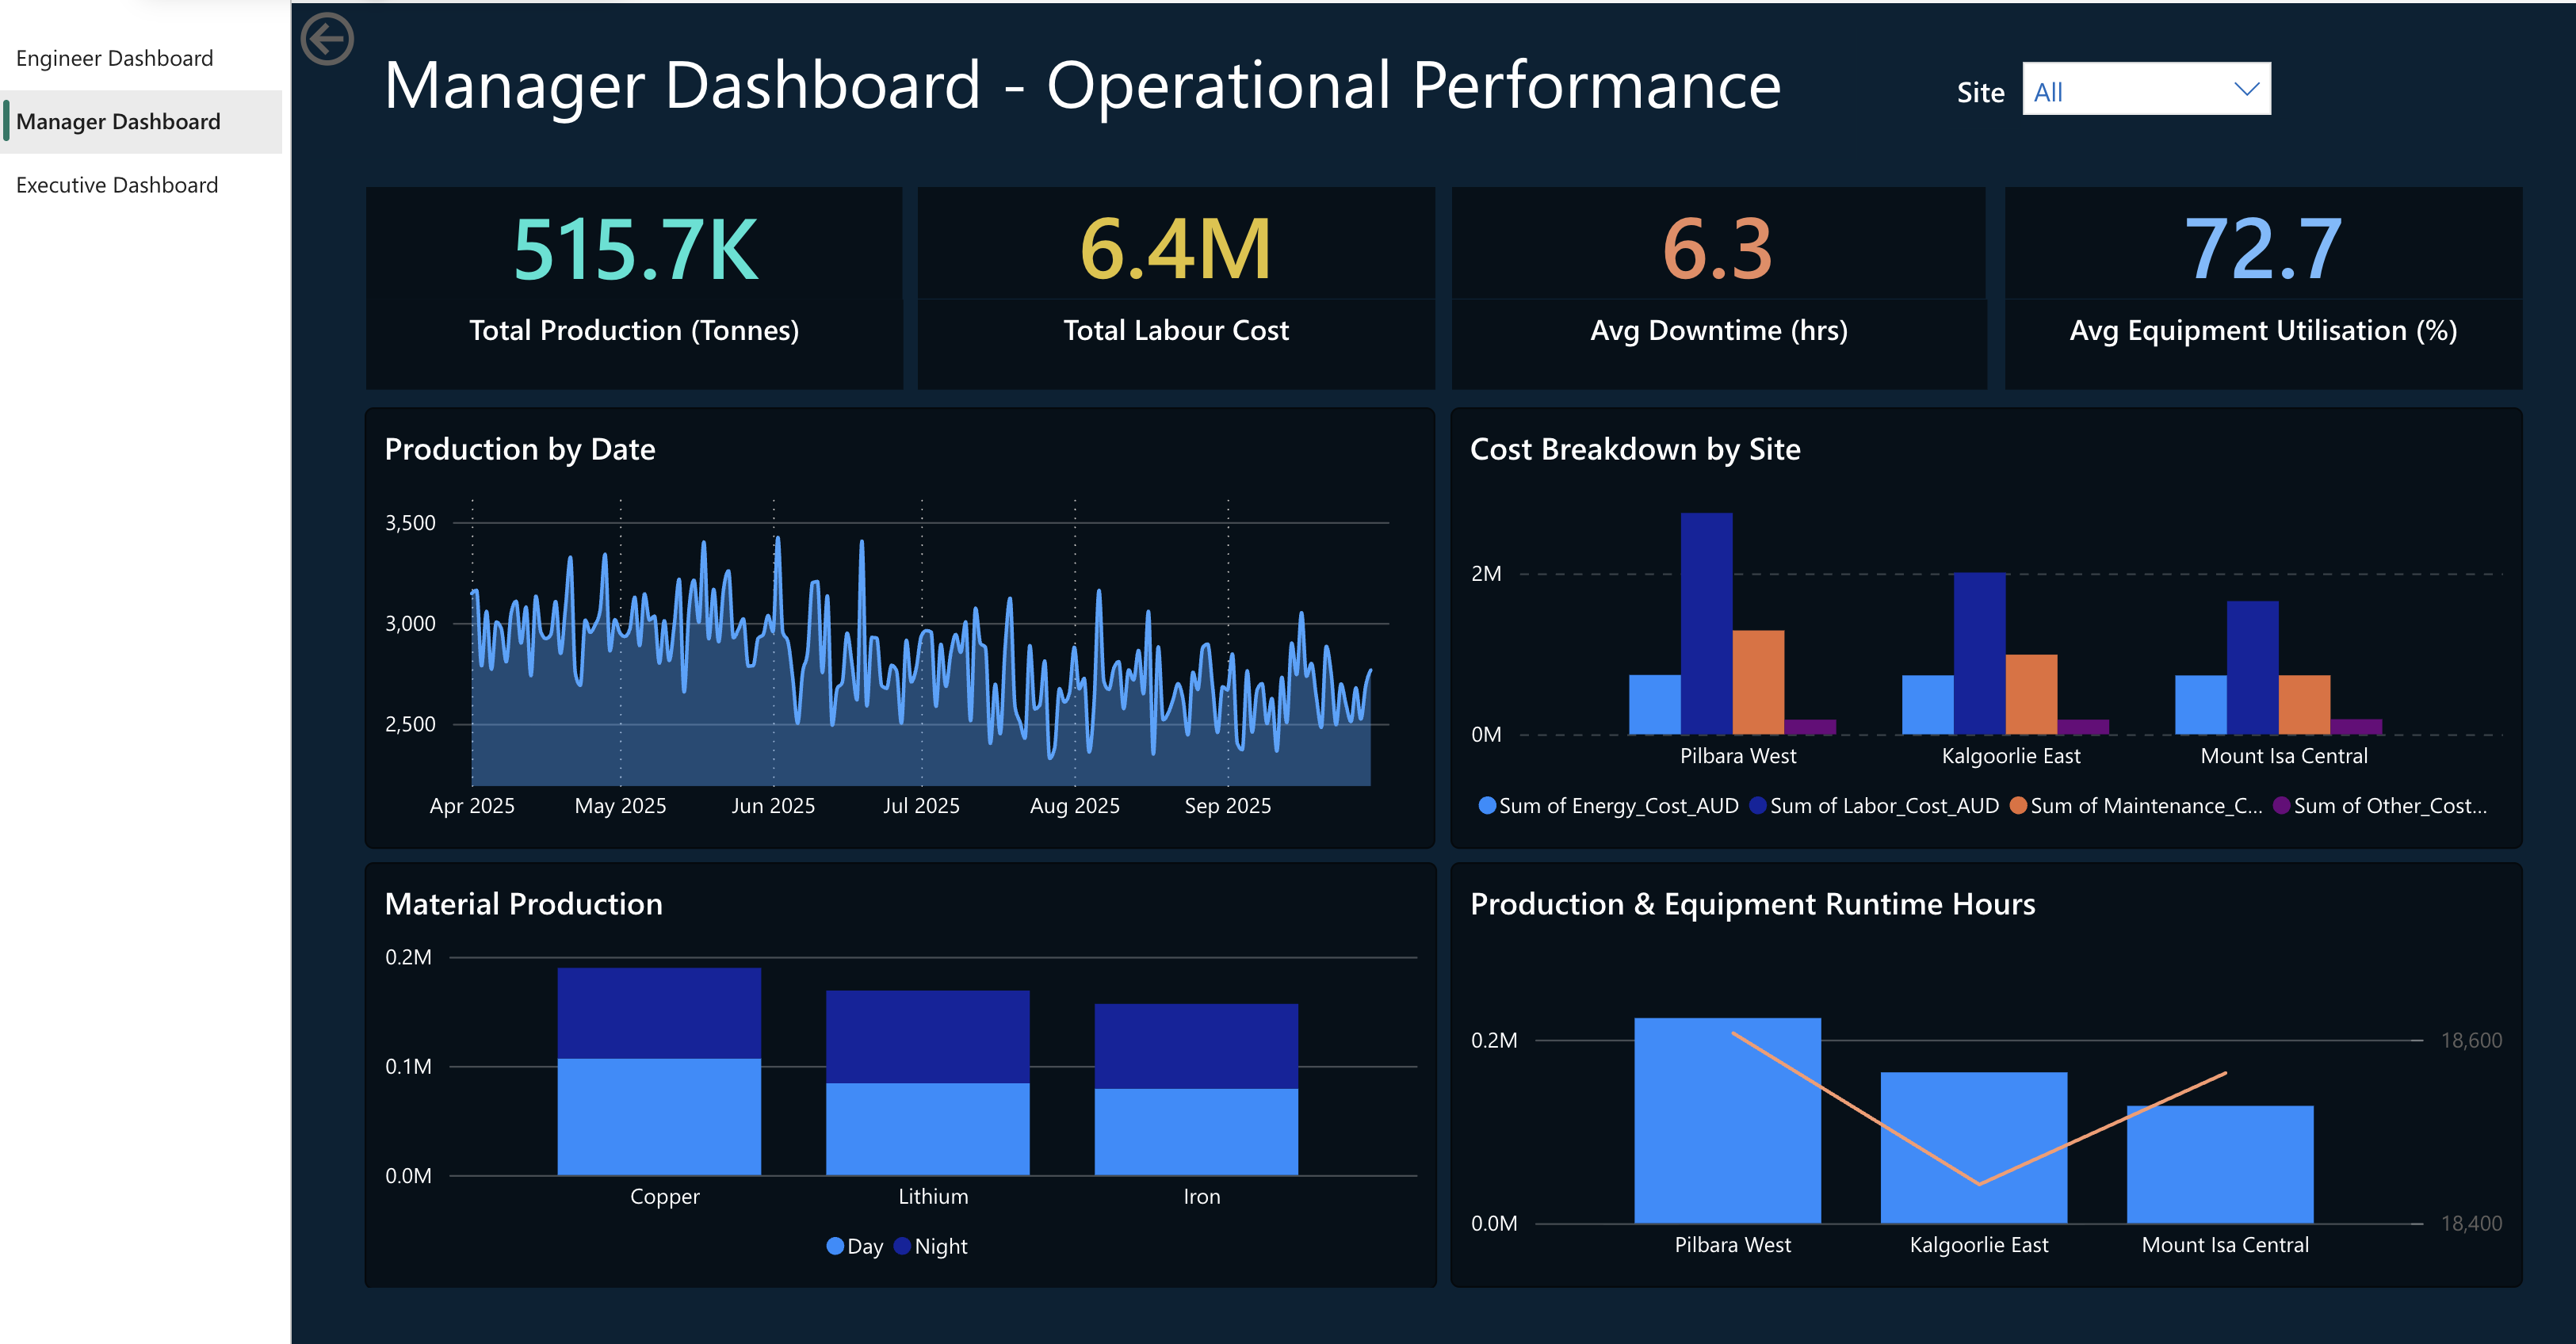

This screenshot's page, from the dashboard's own definition file:
{"tool":"powerbi","page":{"name":"Manager Dashboard","canvas":[1280,720],"ordinal":1},"visuals":[{"type":"textbox","box":[9.9,12.9,866.9,74.5],"z":0},{"type":"slicer","title":"Site","fields":{"Values":["site_info.Site_Name"]},"box":[960.2,22.8,158.9,41.7],"z":1000},{"type":"card","title":"Total Production","fields":{"Values":["Sum(production.Quantity_Tonnes)"]},"box":[41.8,102.8,300.4,63.1],"z":2000},{"type":"card","title":"Runtime Hours","fields":{"Values":["Sum(cost.Labor_Cost_AUD)"]},"box":[350.5,103.3,290,62.6],"z":3000},{"type":"card","title":"Energy Cost","fields":{"Values":["Avg(equipment.Downtime_Hours)"]},"box":[650.4,103.3,298.9,62.6],"z":4000},{"type":"card","title":"Fuel Used","fields":{"Values":["equipment.Utilisation_%"]},"box":[960.2,103.3,290,62.6],"z":5000},{"type":"stackedAreaChart","title":"Production by Date","fields":{"Category":["production.Date"],"Y":["Sum(production.Quantity_Tonnes)"]},"box":[40.7,226.4,599.8,247.3],"z":6000},{"type":"clusteredColumnChart","title":"Cost Breakdown by Site","fields":{"Y":["Sum(cost.Energy_Cost_AUD)","Sum(cost.Labor_Cost_AUD)","Sum(cost.Maintenance_Cost_AUD)","Sum(cost.Other_Costs_AUD)"],"Category":["site_info.Site_Name"]},"box":[649.4,226.4,600.8,247.3],"z":7000},{"type":"lineStackedColumnComboChart","title":"Material Production","fields":{"Category":["production.Material_Type"],"Y":["Sum(production.Quantity_Tonnes)"],"Series":["production.Shift"]},"box":[40.7,481.6,600.8,239.3],"z":8000},{"type":"lineStackedColumnComboChart","title":"Production & Equipment Runtime Hours","fields":{"Category":["site_info.Site_Name"],"Y":["Sum(production.Quantity_Tonnes)"],"Y2":["Sum(equipment.Runtime_Hours)"]},"box":[649.4,481.6,600.8,238.3],"z":9000},{"type":"textbox","box":[928.5,32.8,40.7,37.7],"z":10000},{"type":"textbox","box":[41.7,165.8,300.9,50.6],"z":11000},{"type":"textbox","box":[350.5,165.8,290,50.6],"z":12000},{"type":"textbox","box":[650.4,165.8,299.9,50.6],"z":13000},{"type":"textbox","box":[960.2,165.8,290,50.6],"z":14000},{"type":"actionButton","box":[0,0,100,40],"z":15000}]}

Visuals, with their boxes on the page's 1280x720 design canvas (x1, y1, x2, y2). These are canvas units, not pixel positions in the 2576x1344 screenshot, which may show the page scaled, cropped or inside an application window:
textbox: box=[10, 13, 877, 87]
"Site" slicer: box=[960, 23, 1119, 64]
"Total Production" card: box=[42, 103, 342, 166]
"Runtime Hours" card: box=[350, 103, 640, 166]
"Energy Cost" card: box=[650, 103, 949, 166]
"Fuel Used" card: box=[960, 103, 1250, 166]
"Production by Date" stackedAreaChart: box=[41, 226, 640, 474]
"Cost Breakdown by Site" clusteredColumnChart: box=[649, 226, 1250, 474]
"Material Production" lineStackedColumnComboChart: box=[41, 482, 642, 721]
"Production & Equipment Runtime Hours" lineStackedColumnComboChart: box=[649, 482, 1250, 720]
textbox: box=[928, 33, 969, 70]
textbox: box=[42, 166, 343, 216]
textbox: box=[350, 166, 640, 216]
textbox: box=[650, 166, 950, 216]
textbox: box=[960, 166, 1250, 216]
actionButton: box=[0, 0, 100, 40]
